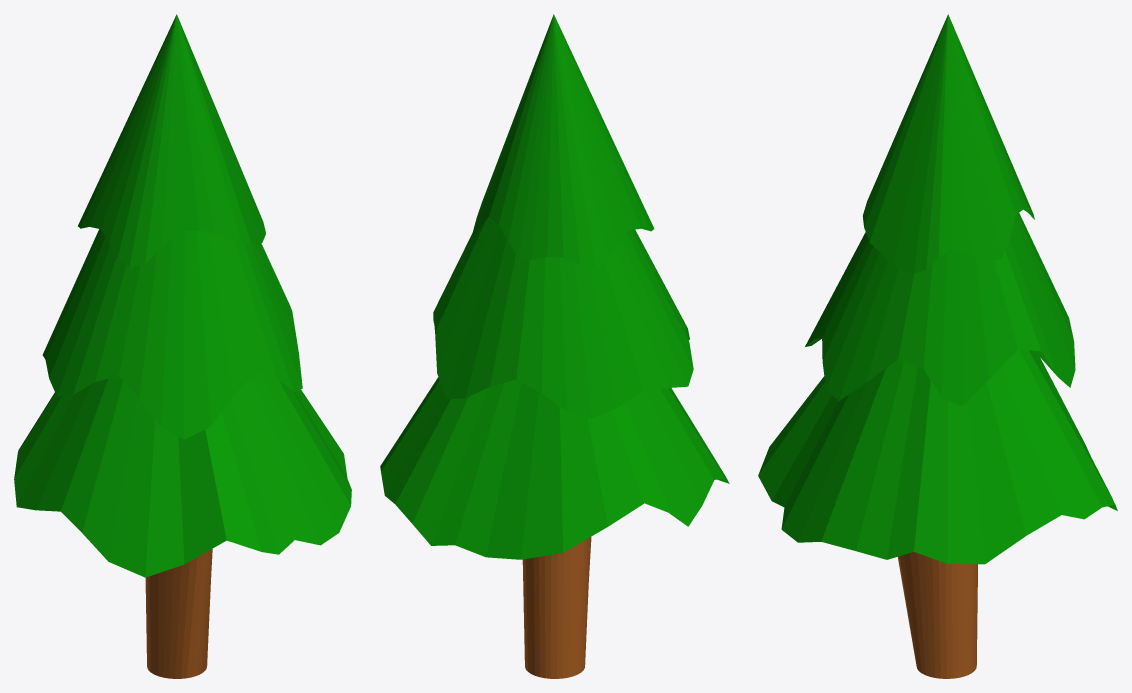
The model's file is Tree_3.fbx.
3 renders of one model, left to right at view 1: azimuth 30°, elevation 25°; view 2: azimuth 150°, elevation 25°; view 3: azimuth 270°, elevation 25°, orthographic.
Parts seen in each view (by area): view 1: Cylinder; view 2: Cylinder; view 3: Cylinder.
Part boxes in pixels (x1,y1,x2,y2): Cylinder: (14, 14, 351, 678); Cylinder: (380, 14, 729, 678); Cylinder: (758, 14, 1117, 678).
Bounding box in the file's own units: 345 × 708 × 354.
